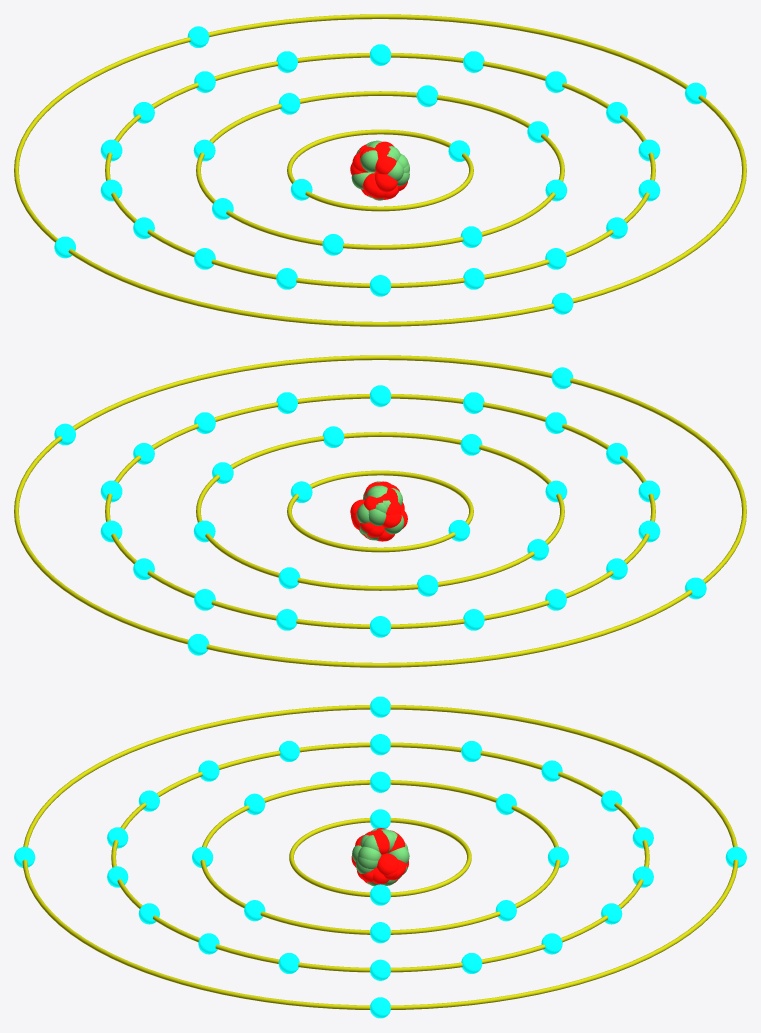
Rendered from atomo_32.glb.
3 views of the same model, one above another, from view 1: azimuth 30°, elevation 25°; view 2: azimuth 150°, elevation 25°; view 3: azimuth 270°, elevation 25° (orthographic). The views are drawn at different scales.
Parts seen in each view (by area): view 1: orbital_4, orbital_3, orbital_2, orbital_1; view 2: orbital_4, orbital_3, orbital_2, orbital_1; view 3: orbital_4, orbital_3, orbital_2, orbital_1.
Boxes of the visible parts, x1,y1,x2,y2 form: orbital_4: (14, 14, 746, 326); orbital_3: (105, 53, 655, 287); orbital_2: (196, 91, 564, 249); orbital_1: (287, 129, 473, 211); orbital_4: (14, 355, 746, 667); orbital_3: (105, 394, 655, 628); orbital_2: (196, 432, 564, 590); orbital_1: (287, 470, 473, 552); orbital_4: (22, 705, 738, 1009); orbital_3: (111, 742, 649, 972); orbital_2: (200, 780, 560, 934); orbital_1: (289, 818, 471, 896).
Bounding box in the file's own units: 12.36 × 0.9985 × 12.36.
